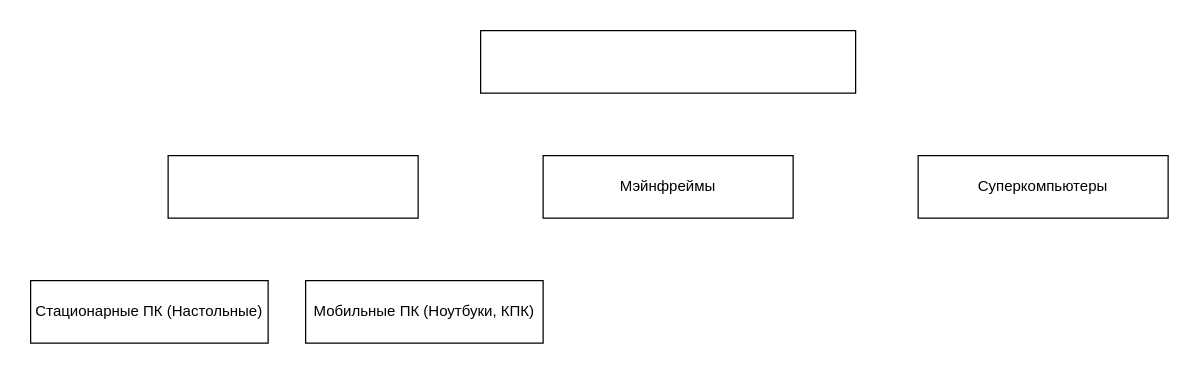
Some shapes in this 1190 by 365 pixel diagram are drawn without their labels. Each missing label, with the centre of its shape:
"Классификация средств обработки информации" belongs at pixel 667 61.
"Микрокомпьютеры (включая ПК)" belongs at pixel 292 186.
